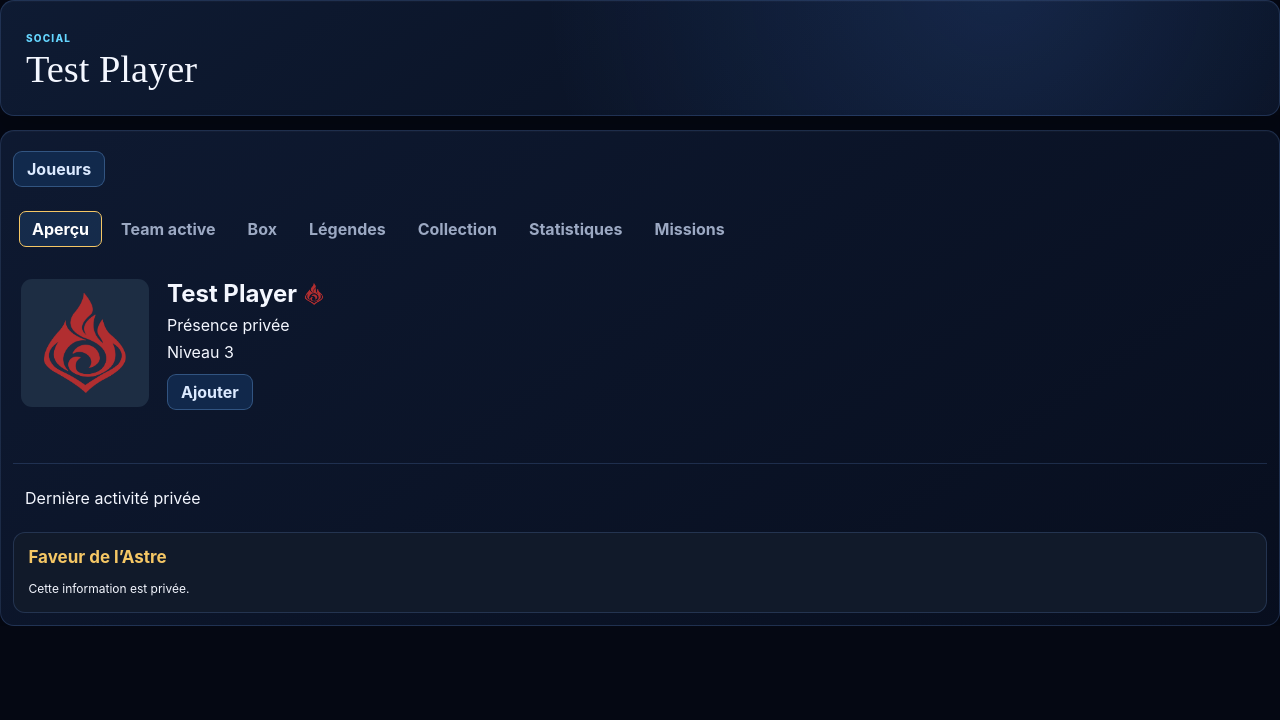
Social screens › uses the privacy-aware third-party route and renders no Mission detail when private
The width and height of the screenshot is (1280, 720).
What coordinates should you click on to do the following:
click the button "Missions"
I would click on:
 (690, 229)
Its box is [642,211,738,247].
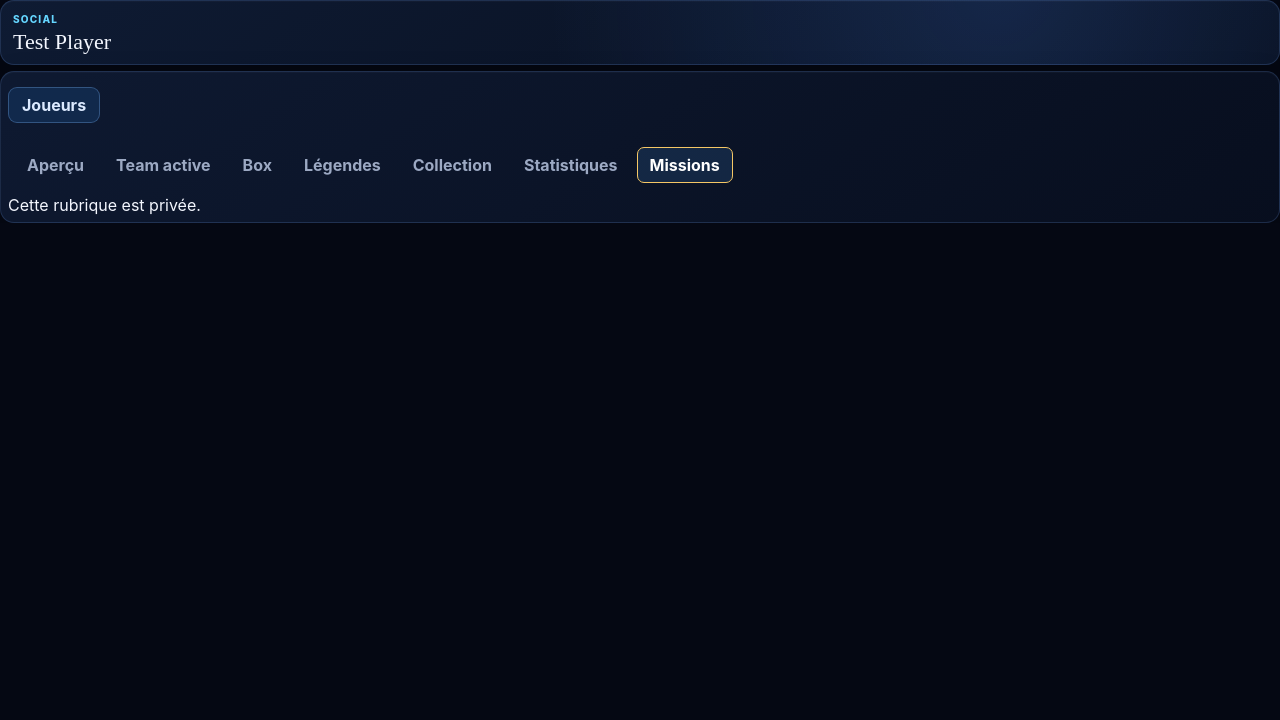
Now the text "Cette rubrique est privée." is shown, box [8,195,201,215]
